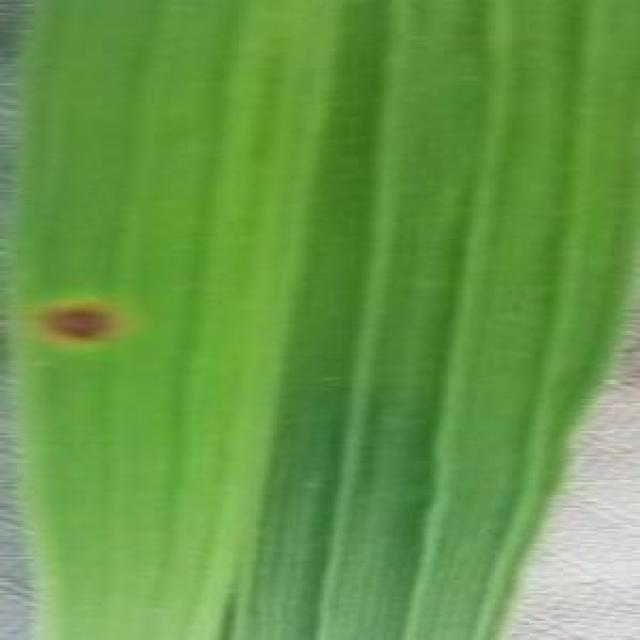brownspots: (42, 294, 121, 354)
